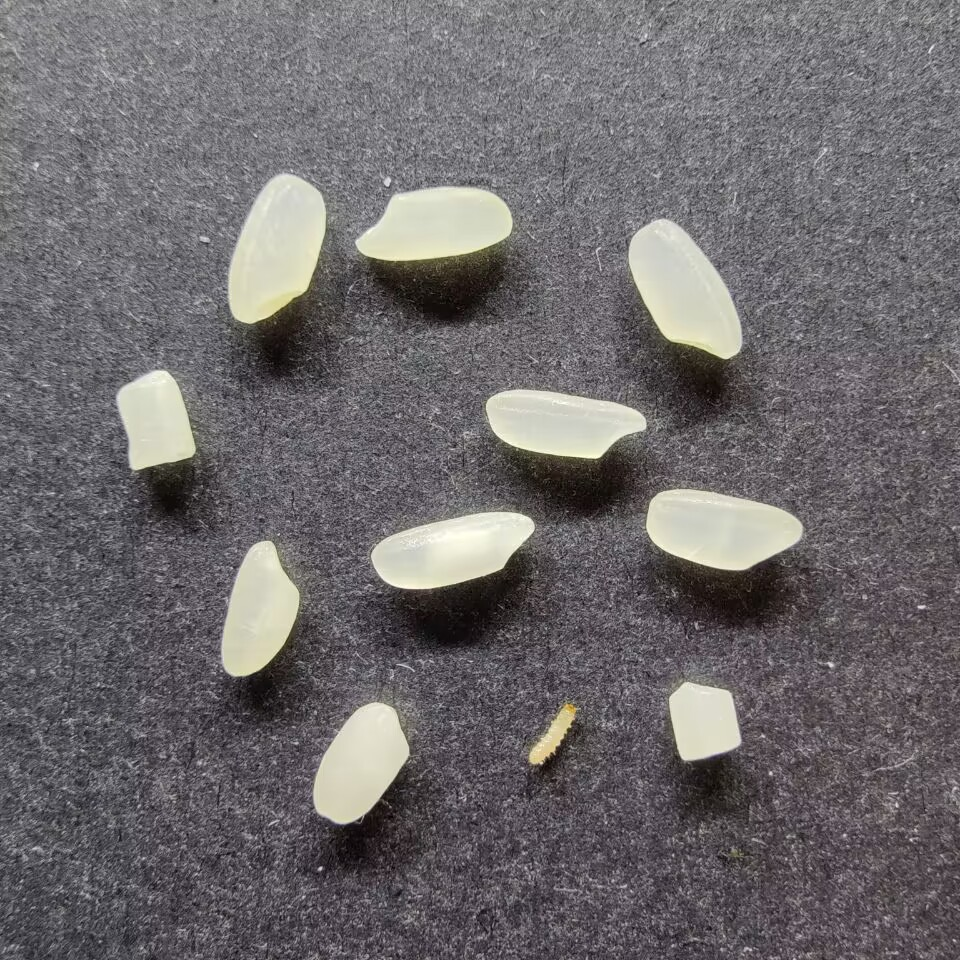broken: (114, 368, 196, 472), (668, 678, 743, 764)
others: (527, 701, 578, 768)
rice: (626, 218, 744, 359), (226, 173, 326, 324), (644, 487, 804, 572), (370, 510, 535, 590), (310, 700, 410, 825), (354, 185, 513, 261), (484, 387, 647, 459), (218, 538, 299, 677)
